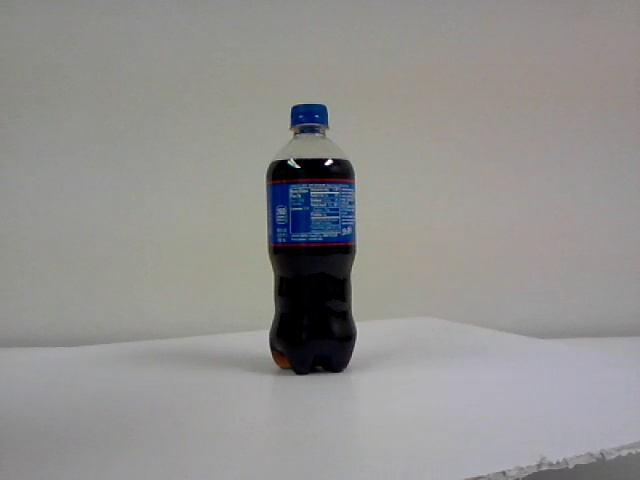botolplastik: (267, 104, 356, 373)
